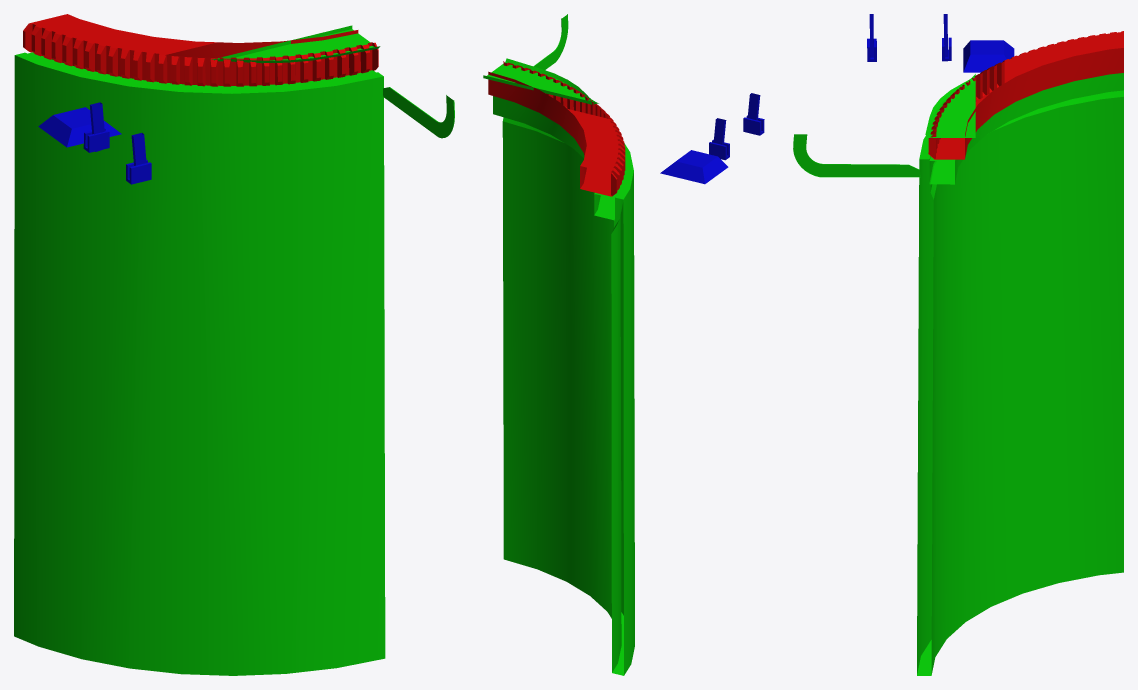
File: Top Base 2.fbx
3 views of the same model, side by side, from view 1: azimuth 30°, elevation 25°; view 2: azimuth 150°, elevation 25°; view 3: azimuth 270°, elevation 25° (orthographic). The views are drawn at different scales.
Parts seen in each view (by area): view 1: LOD0_SM_TurbineTop_Base_02; view 2: LOD0_SM_TurbineTop_Base_02; view 3: LOD0_SM_TurbineTop_Base_02.
Boxes of the visible parts, x1,y1,x2,y2 form: LOD0_SM_TurbineTop_Base_02: [14, 14, 454, 675]; LOD0_SM_TurbineTop_Base_02: [483, 14, 764, 675]; LOD0_SM_TurbineTop_Base_02: [793, 14, 1123, 675].
Size of the model in its own units: 179 by 357 by 197.
